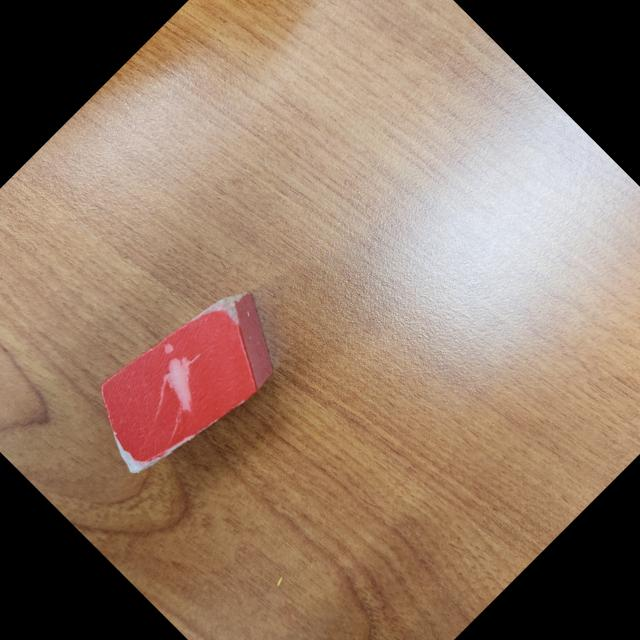broken: (70, 263, 304, 497)
